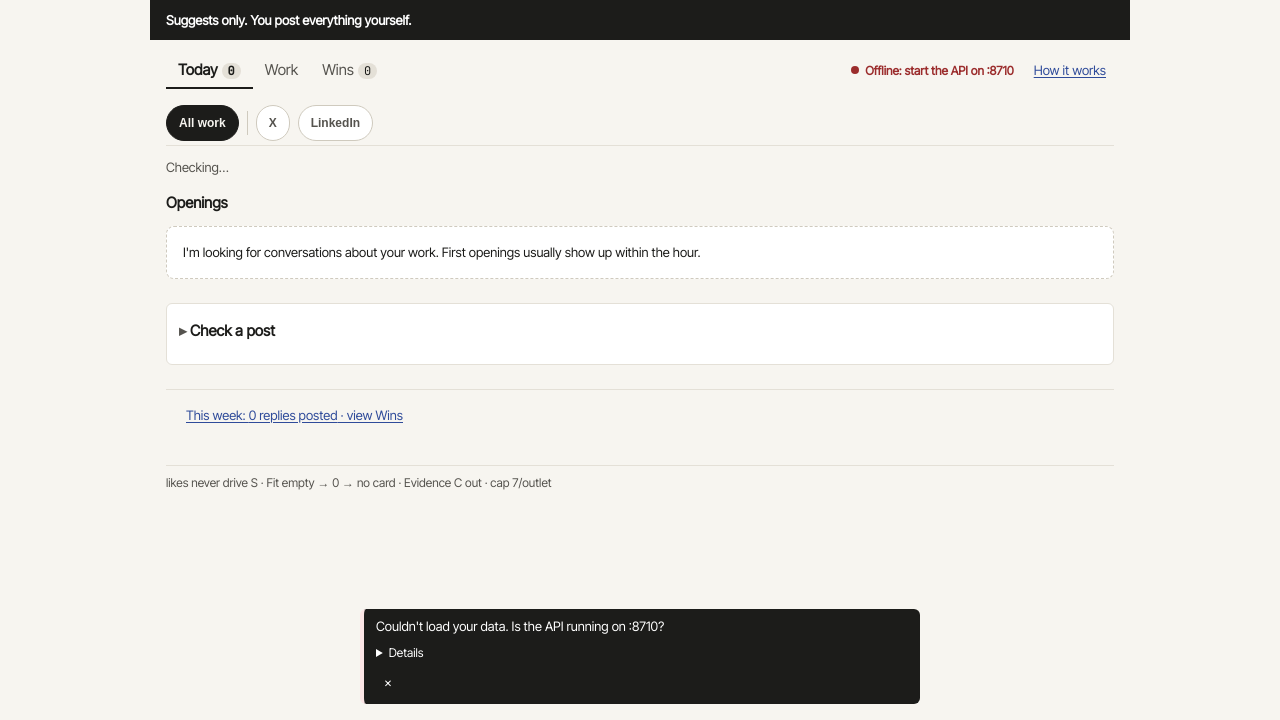
DoR chrome › ui:api_offline — offline API turns the dot red and disables actions with a reason
Expected: the text "Offline: start the API on :8710" is shown, left=865, top=62, right=1014, bottom=79
Click the heading "Check a post": (232, 330) left=190, top=321, right=275, bottom=340
(page scrolled)
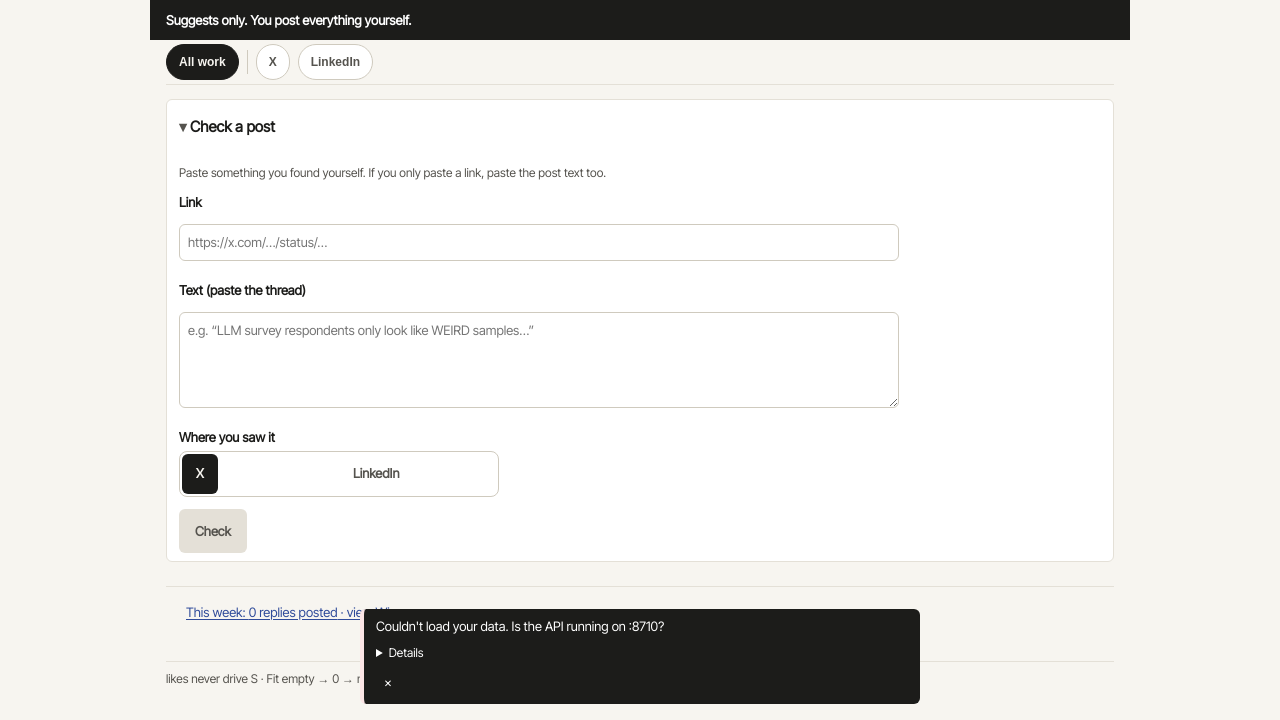
Expected: the button "Check" is disabled, left=179, top=508, right=247, bottom=552
